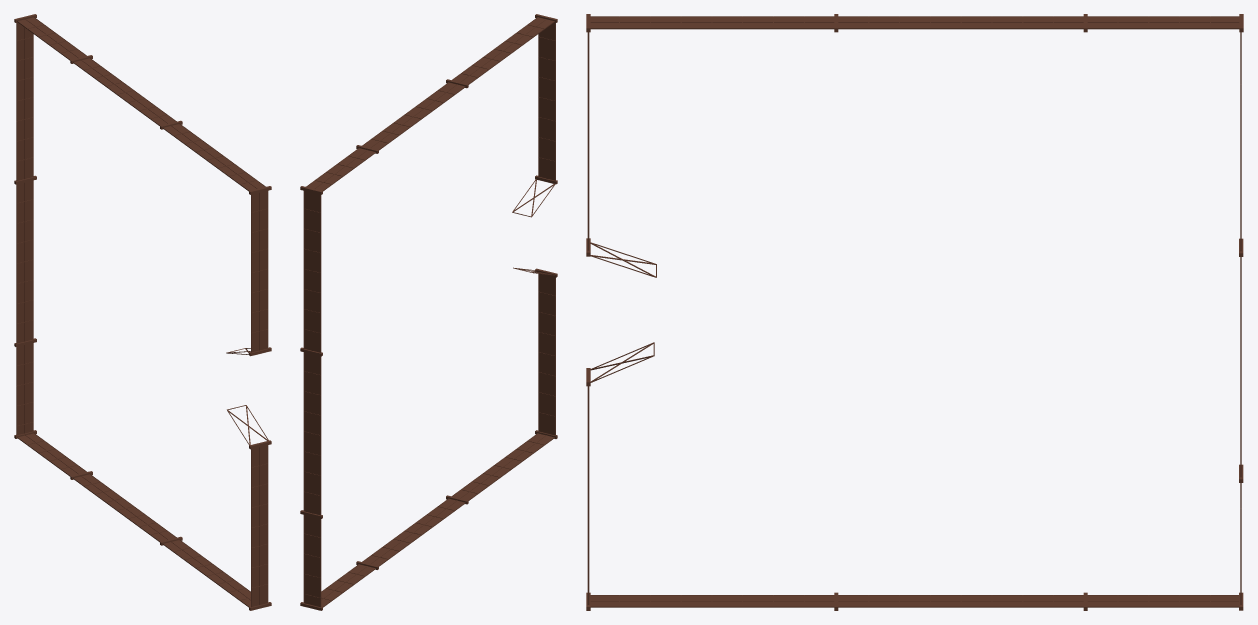
File: Cercado.FBX
3 renders of one model, left to right at view 1: azimuth 30°, elevation 25°; view 2: azimuth 150°, elevation 25°; view 3: azimuth 270°, elevation 25°, orthographic. The views are drawn at different scales.
Visible parts, largest first — view 1: Box144, Box145, Box146, Box147, Box148, Box149, Box157, Box160, Box161, Box083, Box084, Box085 (+18 smaller); view 2: Box155, Box157, Box144, Box145, Box146, Box147, Box148, Box154, Box156, Box160, Box161, Box162 (+19 smaller); view 3: no part large enough to name.
Part boxes in pixels (box(x1,y1,x2,y2)): Box144: box(16, 137, 33, 161); Box145: box(16, 117, 33, 141); Box146: box(16, 97, 33, 121); Box147: box(16, 77, 33, 101); Box148: box(16, 57, 33, 81); Box149: box(16, 37, 33, 61); Box157: box(16, 199, 33, 223); Box160: box(16, 402, 33, 426); Box161: box(16, 382, 33, 406); Box083: box(251, 309, 268, 333); Box084: box(251, 289, 268, 313); Box085: box(251, 269, 268, 293); Box155: box(303, 411, 321, 435); Box157: box(303, 371, 321, 395); Box144: box(303, 309, 321, 333); Box145: box(303, 289, 321, 313); Box146: box(303, 269, 321, 293); Box147: box(303, 249, 321, 273); Box148: box(303, 229, 321, 252); Box154: box(303, 432, 321, 455); Box156: box(303, 391, 321, 415); Box160: box(303, 574, 321, 598); Box161: box(303, 554, 321, 578); Box162: box(303, 534, 321, 557).
Size of the model in its own units: 25.22 by 474 by 485.
